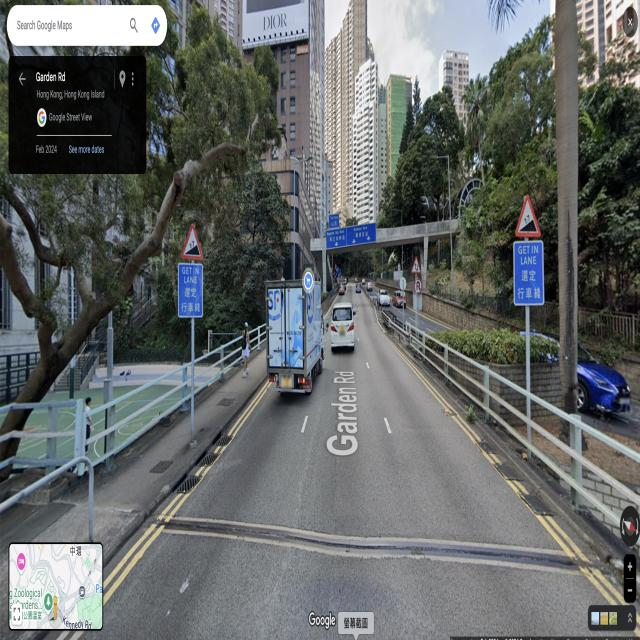Direction-Sign: (326, 222, 376, 249), (328, 213, 339, 229)
Warning-Sign: (180, 222, 204, 261), (411, 256, 421, 273)
